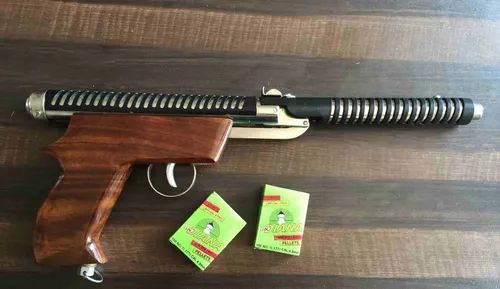GUN: (24, 78, 486, 289)
